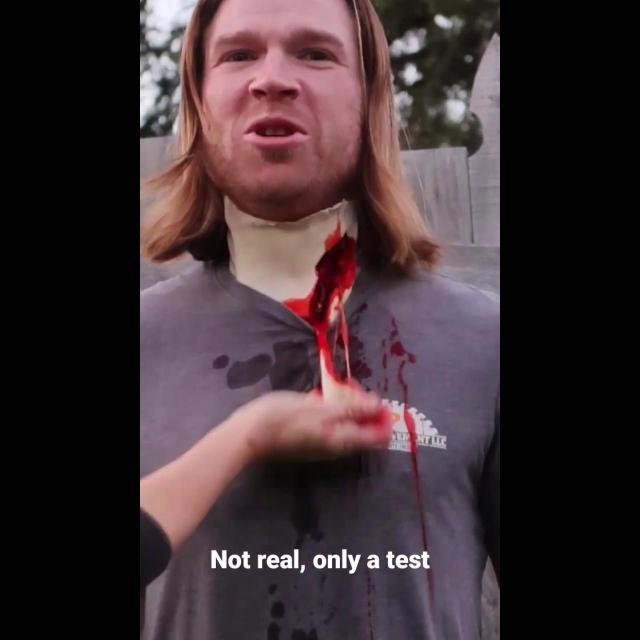blood: (384, 318, 446, 552), (284, 234, 356, 395), (348, 302, 372, 384)
